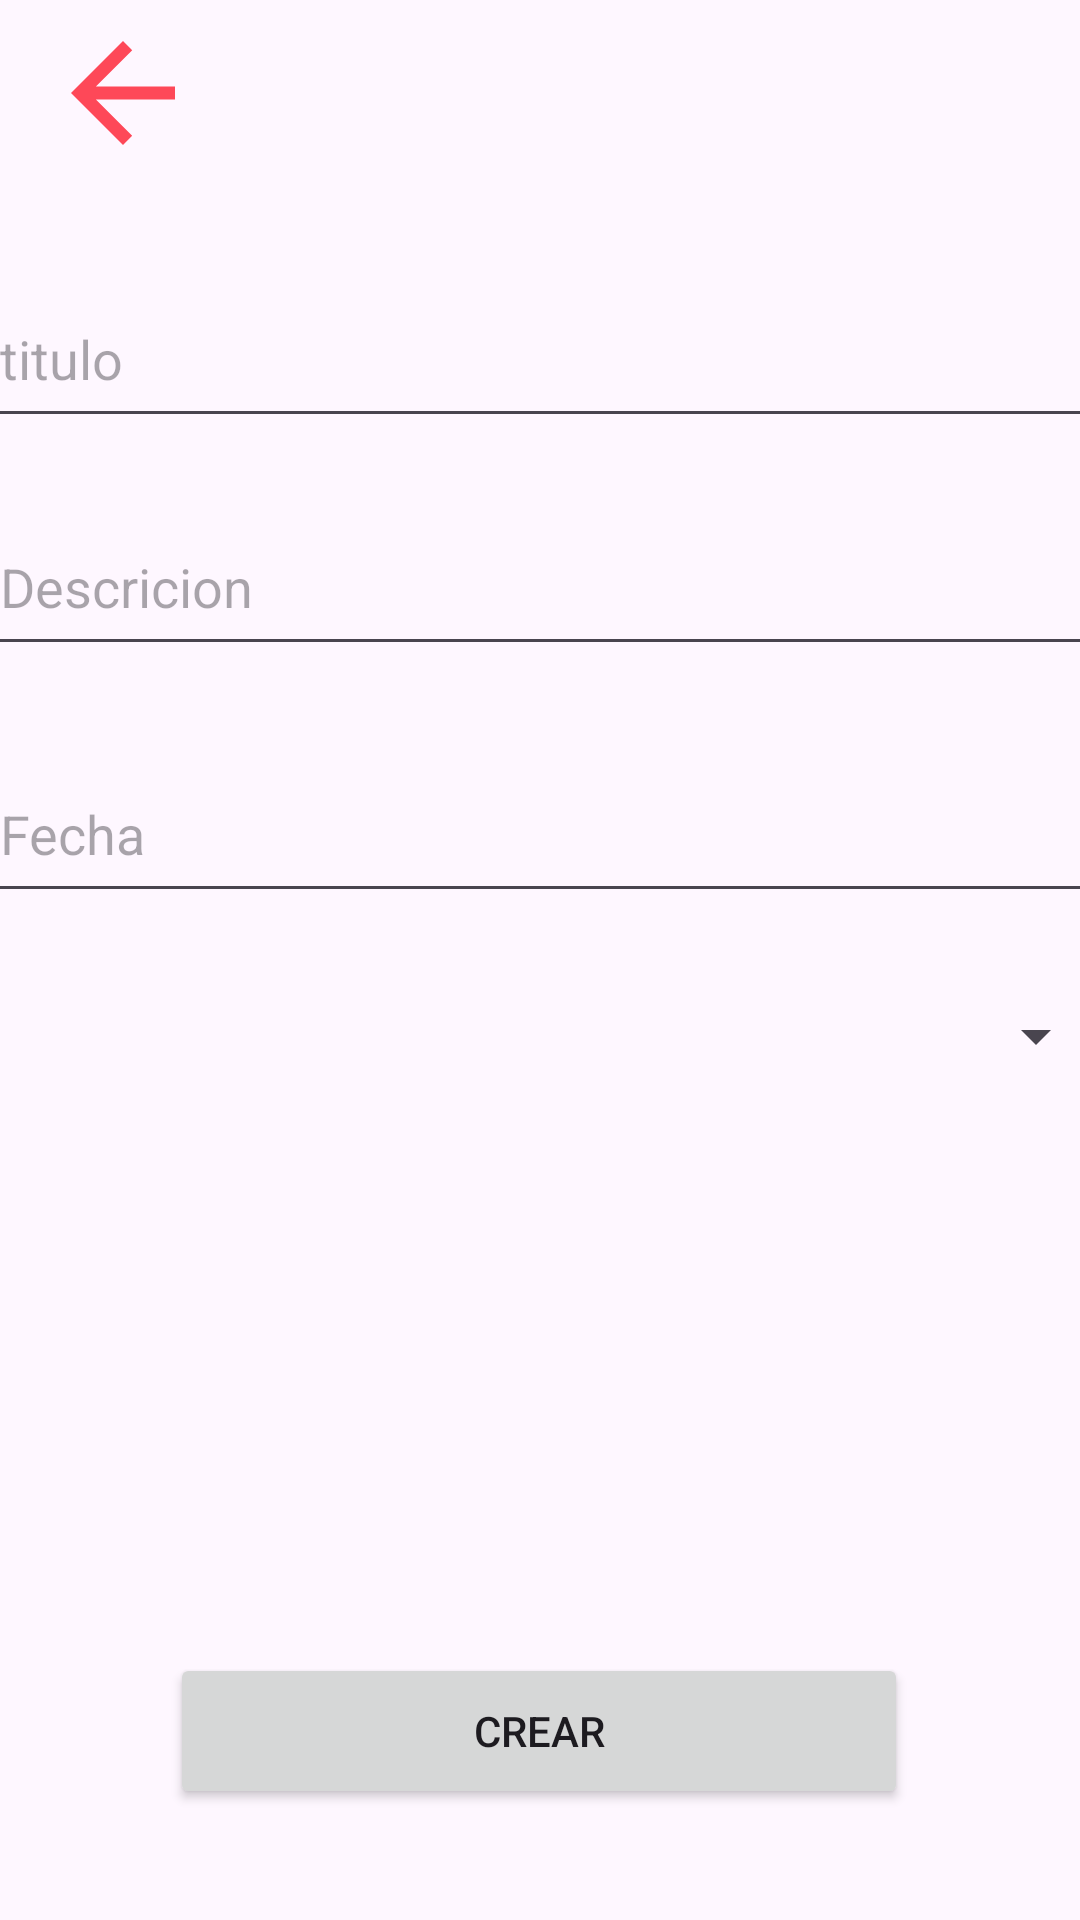

Named icons in this screenshot (1080px×1920px) and their bounding boxes, Rect(x1, y1, x2, y2):
arrow back: Rect(71, 41, 175, 145)
